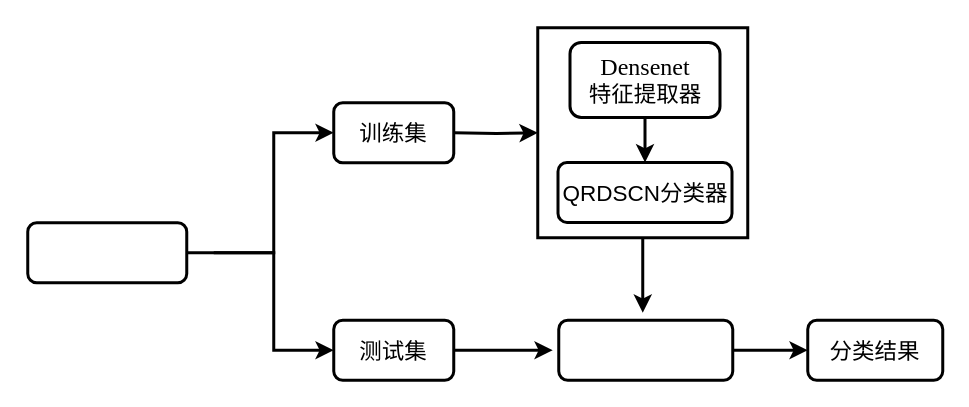
The diagram is 969 pixels wide and 407 high, and some of its shapes have lost their labels. The shapes that lost their labels are listed below. From the top down, each one's centre as x and y in pixels, then its label:
At (x=107, y=252): "服装数据集".
At (x=645, y=349): "训练好的模型".
